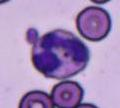N: (31, 30, 90, 78)
